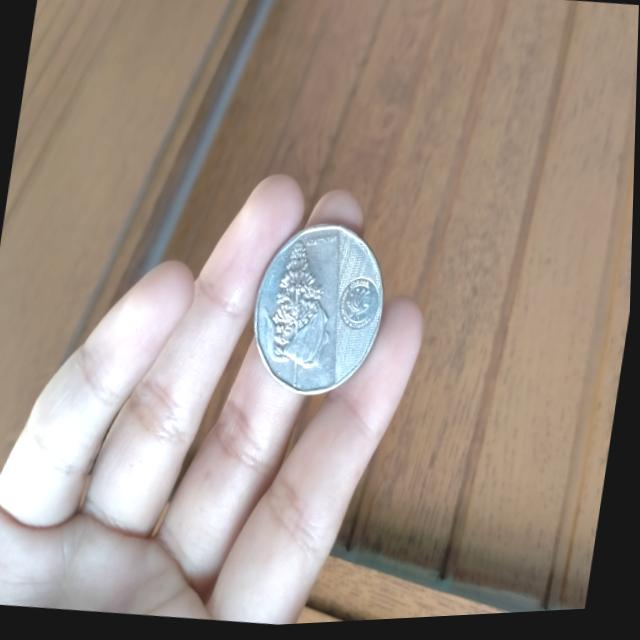10_New_Back: (251, 225, 350, 403)
